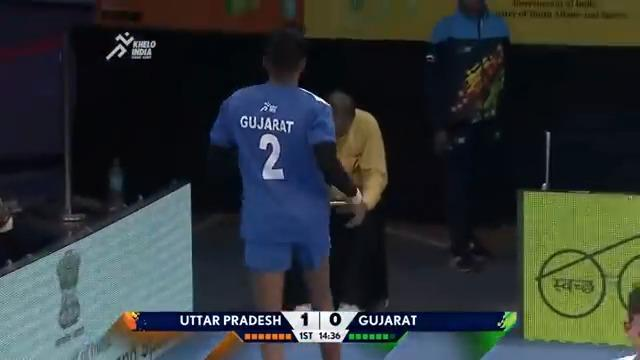Player: (207, 27, 361, 358)
referee: (324, 87, 390, 314)
